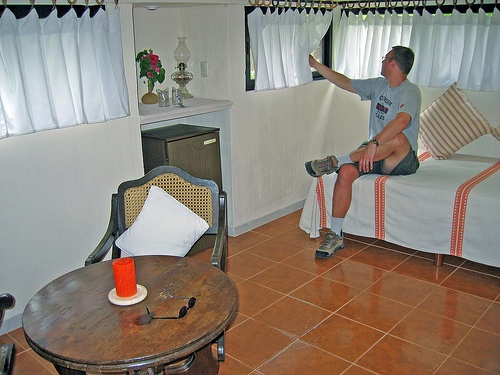head: (381, 47, 416, 82)
person: (302, 45, 425, 254)
